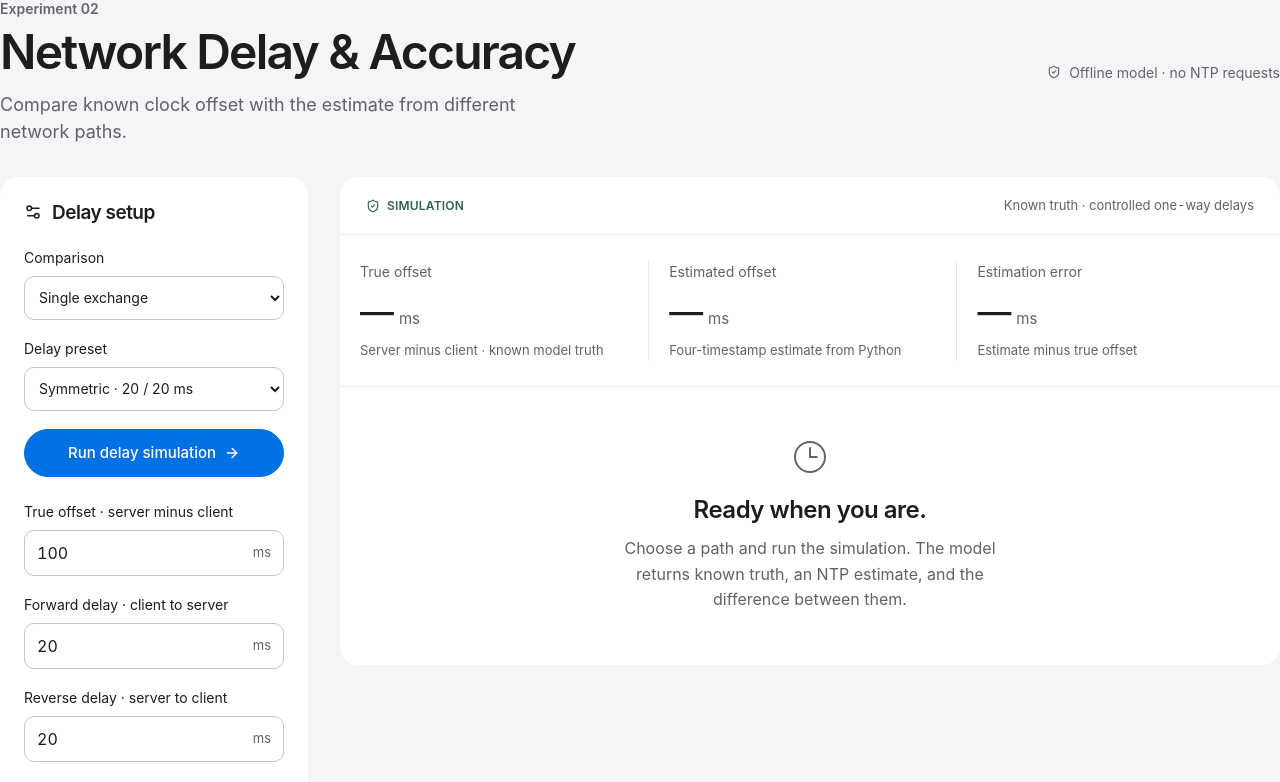
makes no startup POSTs in StrictMode and guards duplicate submits
Click the button "Run delay simulation" at (154, 453), box [24, 429, 284, 477]
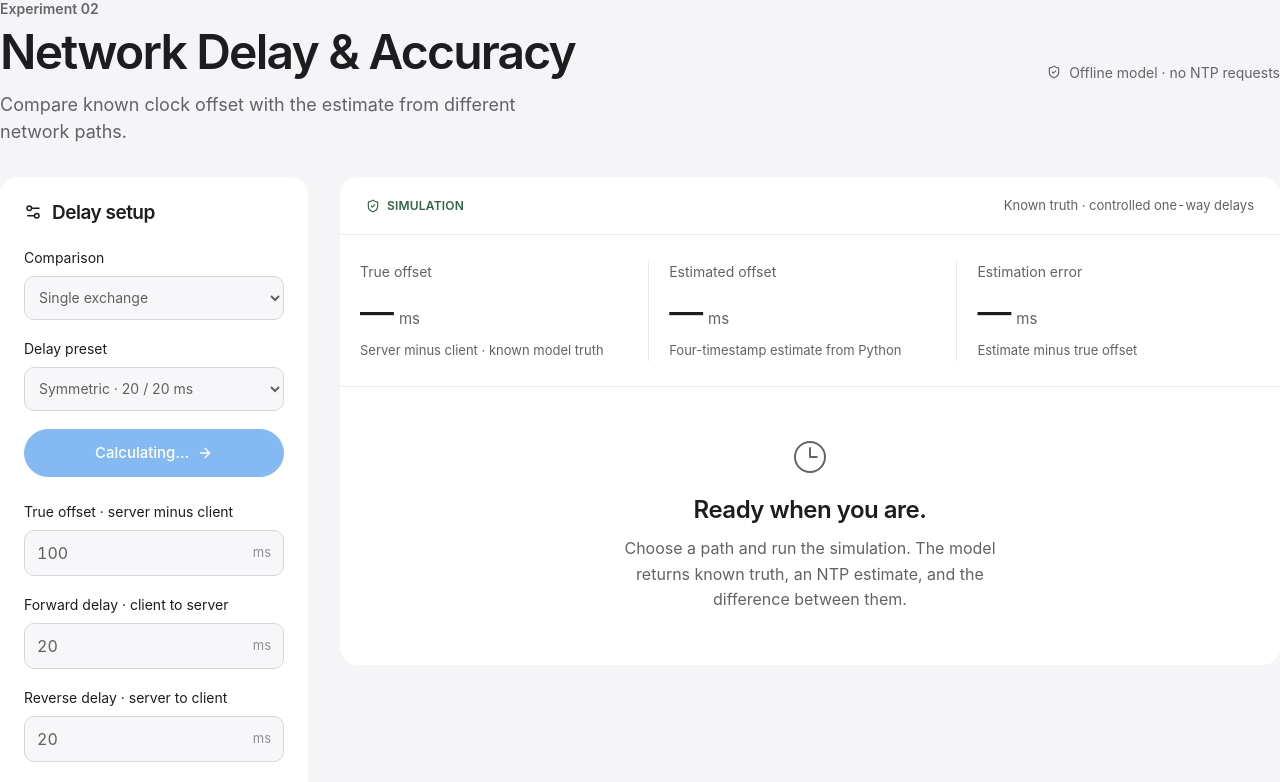
Click the button named "Run delay simulation" at (154, 453), box [24, 429, 284, 477]
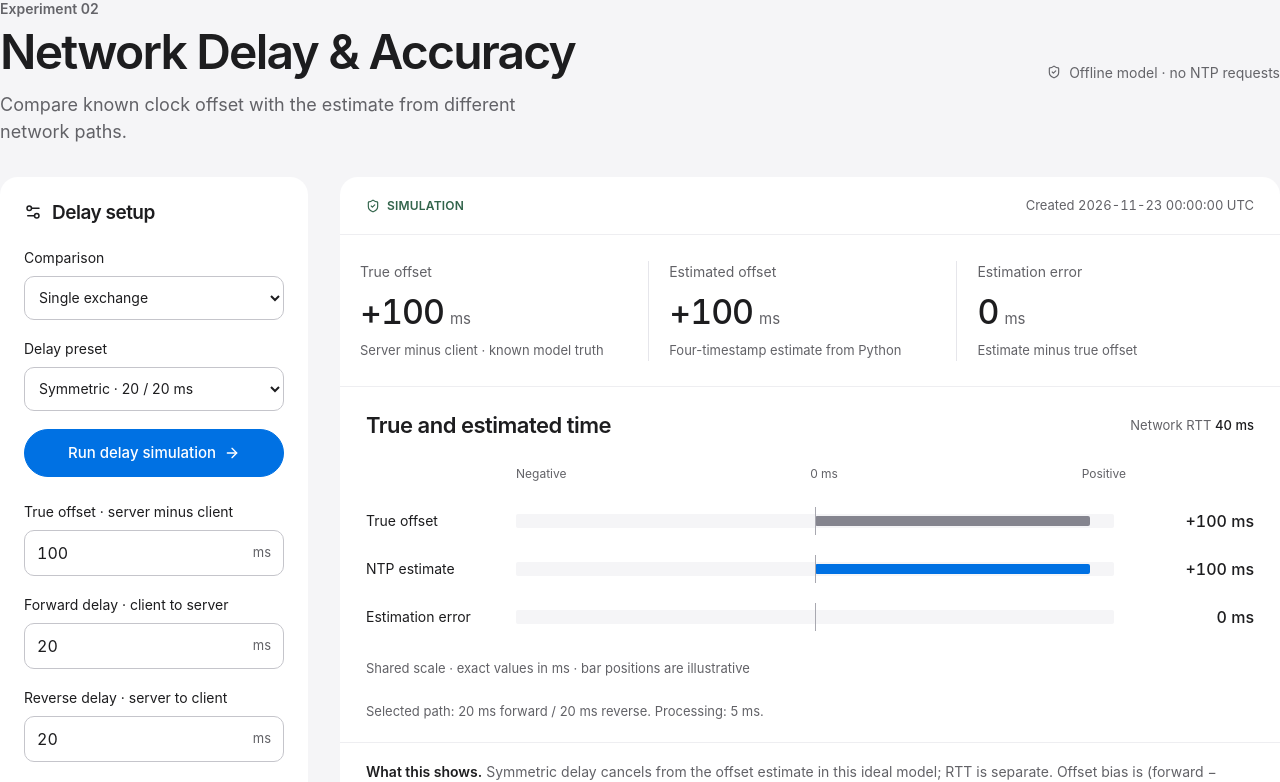
Expected: the picture is shown, [366, 466, 1254, 679]
